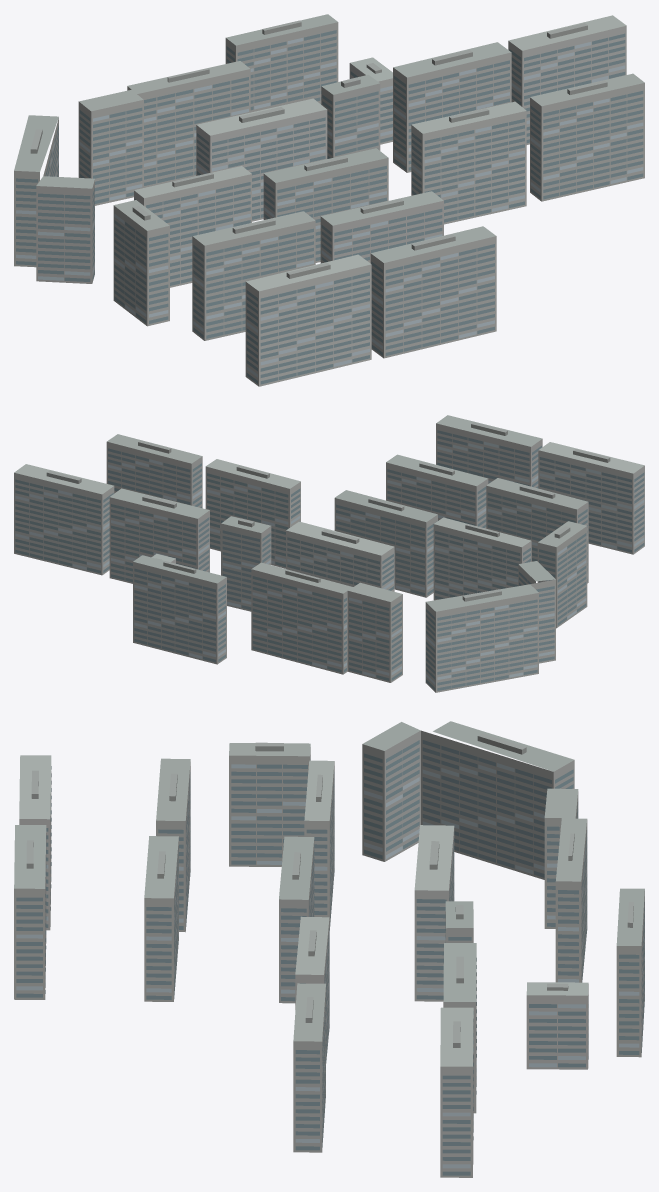
Rendered from apt-a13986111.glb.
The picture shows the model from 3 angles, top to bottom: view 1: azimuth 30°, elevation 25°; view 2: azimuth 150°, elevation 25°; view 3: azimuth 270°, elevation 25°; orthographic projection. The views are drawn at different scales.
Visible parts, largest first — view 1: apt-a13986111; view 2: apt-a13986111; view 3: apt-a13986111.
Part boxes in pixels (box(x1,y1,x2,y2)): apt-a13986111: box(14, 14, 644, 386); apt-a13986111: box(14, 415, 644, 692); apt-a13986111: box(14, 721, 644, 1177).
Bounding box in the file's own units: 305 × 47.81 × 236.
